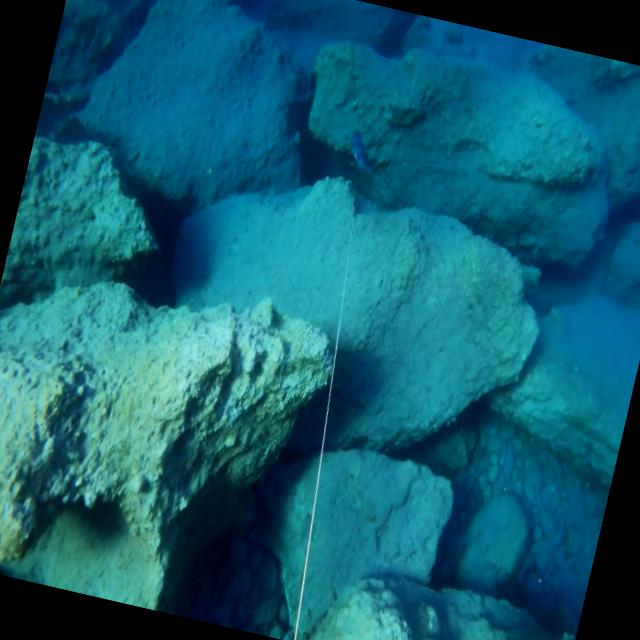Balon Baligi: (343, 128, 382, 178)
